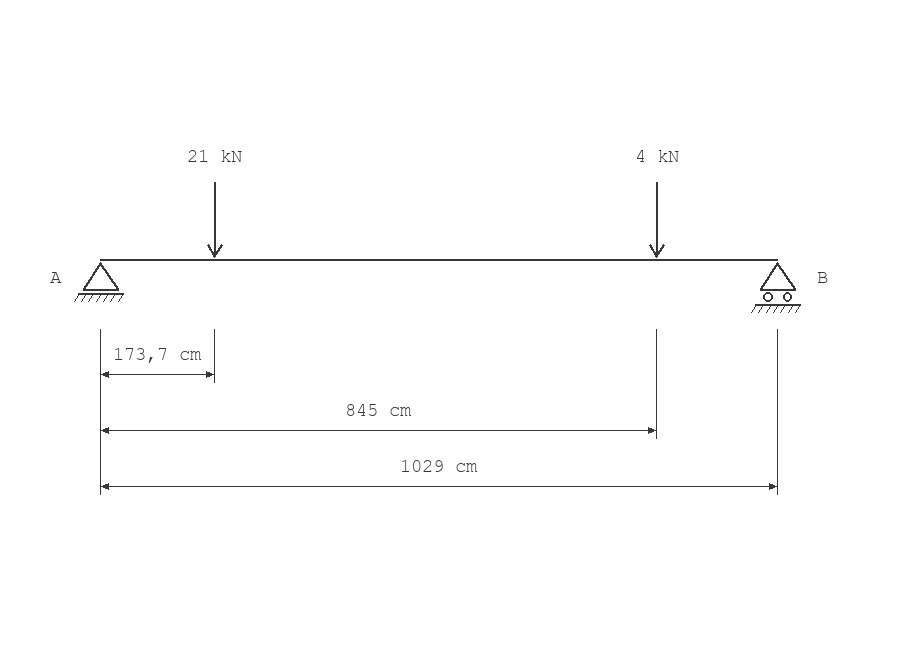pin_support: (74, 262, 124, 302)
point_load: (207, 182, 223, 258), (649, 182, 665, 258)
roller_support: (751, 262, 801, 313)
